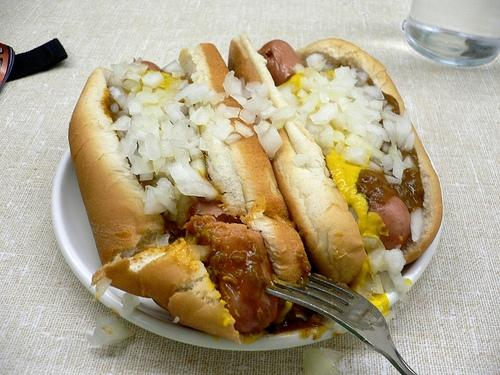onion: (84, 313, 134, 347), (344, 135, 387, 167), (302, 347, 344, 375), (362, 237, 386, 274), (149, 185, 177, 213), (380, 248, 406, 276), (340, 146, 371, 167), (270, 106, 298, 124), (388, 270, 409, 292), (141, 70, 164, 90), (145, 133, 162, 160), (411, 208, 424, 242), (104, 60, 128, 78), (121, 292, 140, 312), (126, 96, 144, 115), (162, 60, 186, 74), (362, 85, 384, 100), (190, 158, 208, 176), (256, 104, 276, 120), (121, 79, 141, 93), (231, 94, 248, 110), (240, 77, 252, 99), (108, 85, 125, 100), (306, 54, 324, 68), (371, 275, 384, 294), (319, 134, 334, 150), (354, 71, 368, 87), (292, 154, 310, 166), (384, 174, 401, 185), (298, 113, 308, 129), (139, 172, 153, 182), (292, 64, 304, 74), (110, 103, 120, 113)
